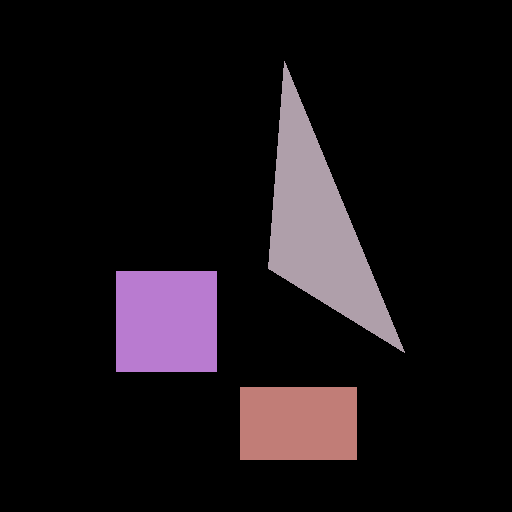rectangle: (240, 387, 356, 459)
square: (116, 271, 216, 371)
triangle: (268, 61, 404, 352)
